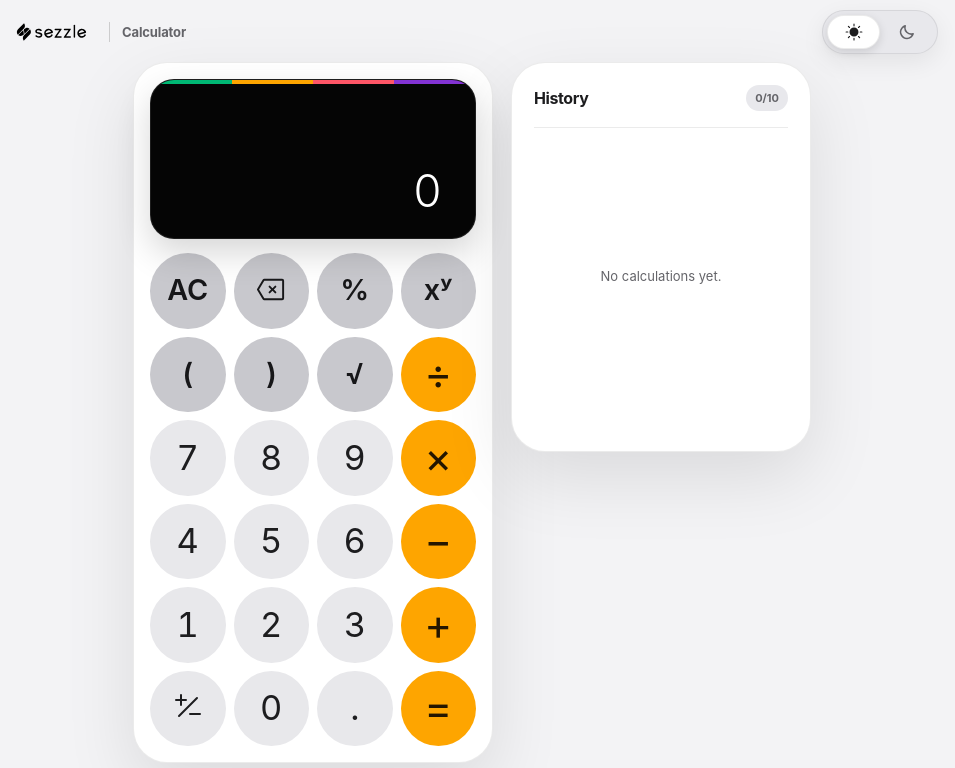
Test: calculator › uses AC only for an empty calculator and C while content is present
Expected: the button with aria-label "clear" reads "AC", x1=150 y1=253 x2=226 y2=328
What coordinates should you click on to do the following:
click the button "7"
I would click on:
 (188, 458)
Its box is x1=150 y1=420 x2=226 y2=496.
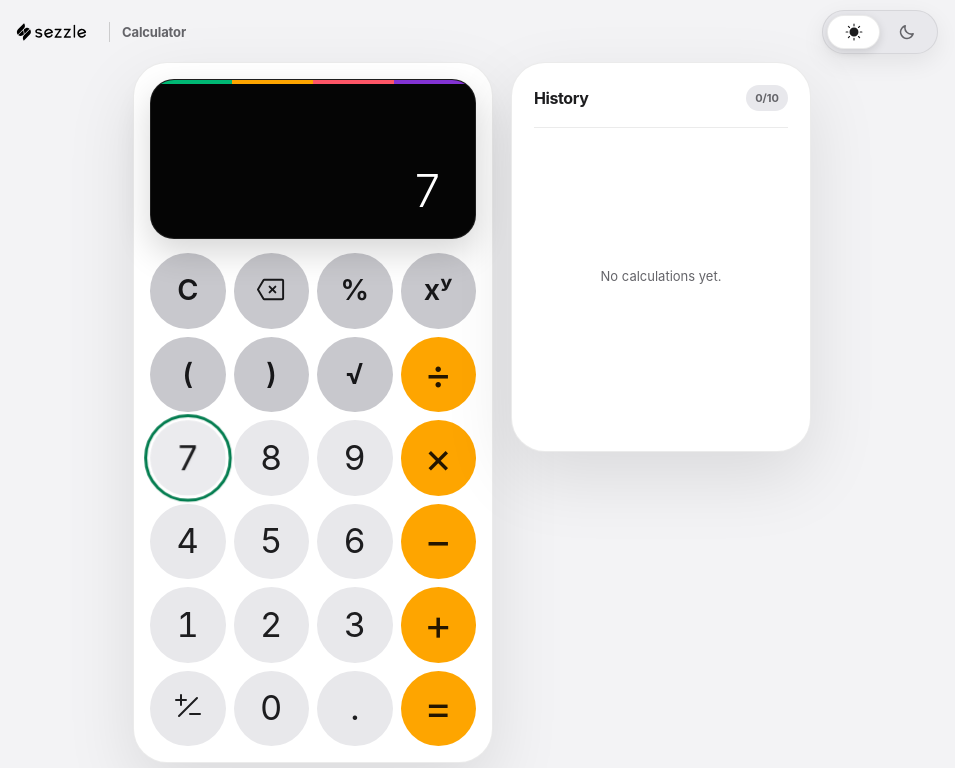
Now the button named "clear" reads "C", box x1=150 y1=253 x2=226 y2=328
What coordinates should you click on to do the following:
click the button named "delete"
I would click on:
 (271, 291)
Its box is x1=234 y1=253 x2=309 y2=328.
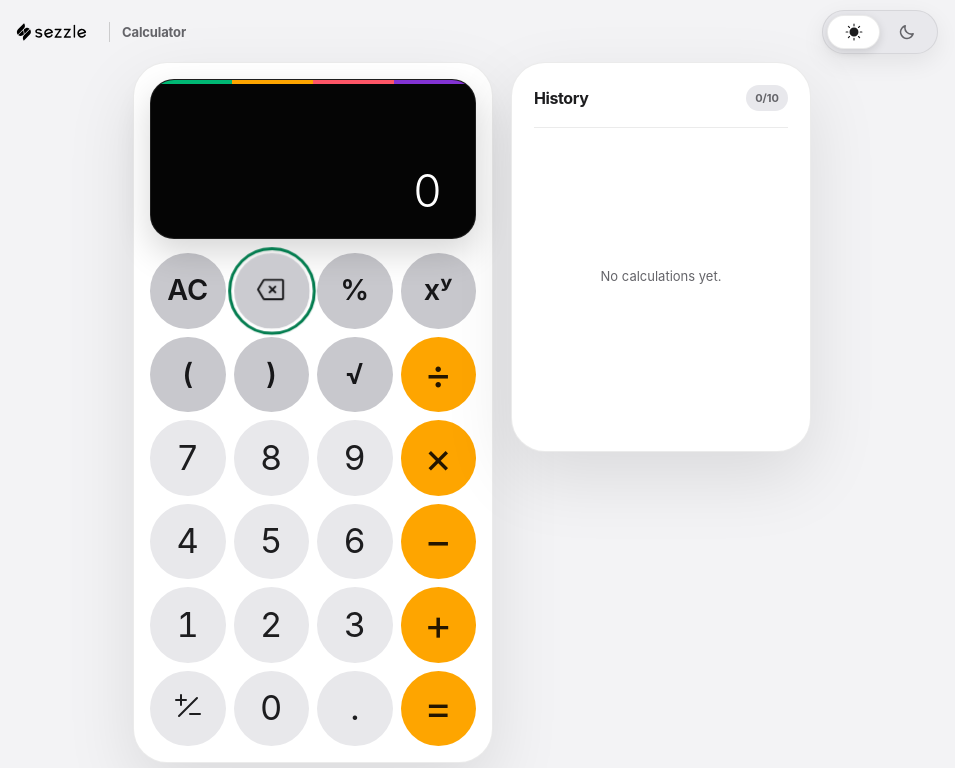
Now the button with aria-label "clear" reads "AC", box x1=150 y1=253 x2=226 y2=328
What coordinates should you click on to do the following:
click the button "8"
I would click on:
 (271, 458)
Its box is x1=234 y1=420 x2=309 y2=496.
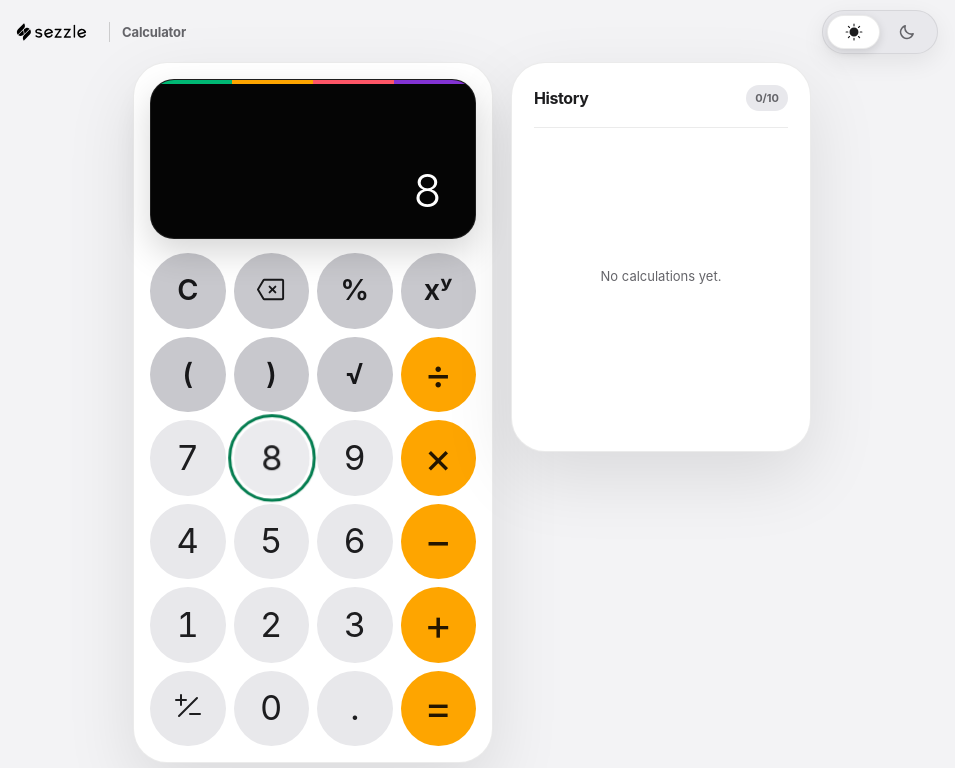
What coordinates should you click on to do the following:
click the button named "plus"
I would click on:
 (438, 625)
Its box is x1=400 y1=587 x2=476 y2=662.
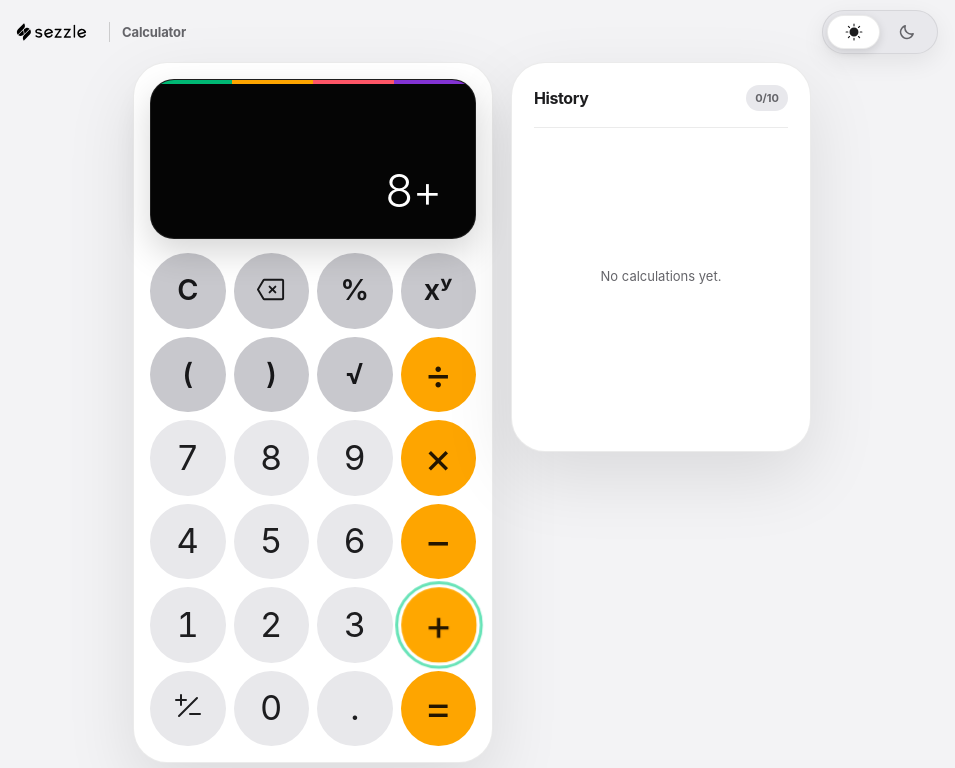
What coordinates should you click on to do the following:
click the button "2"
I would click on:
 (271, 625)
Its box is x1=234 y1=587 x2=309 y2=662.
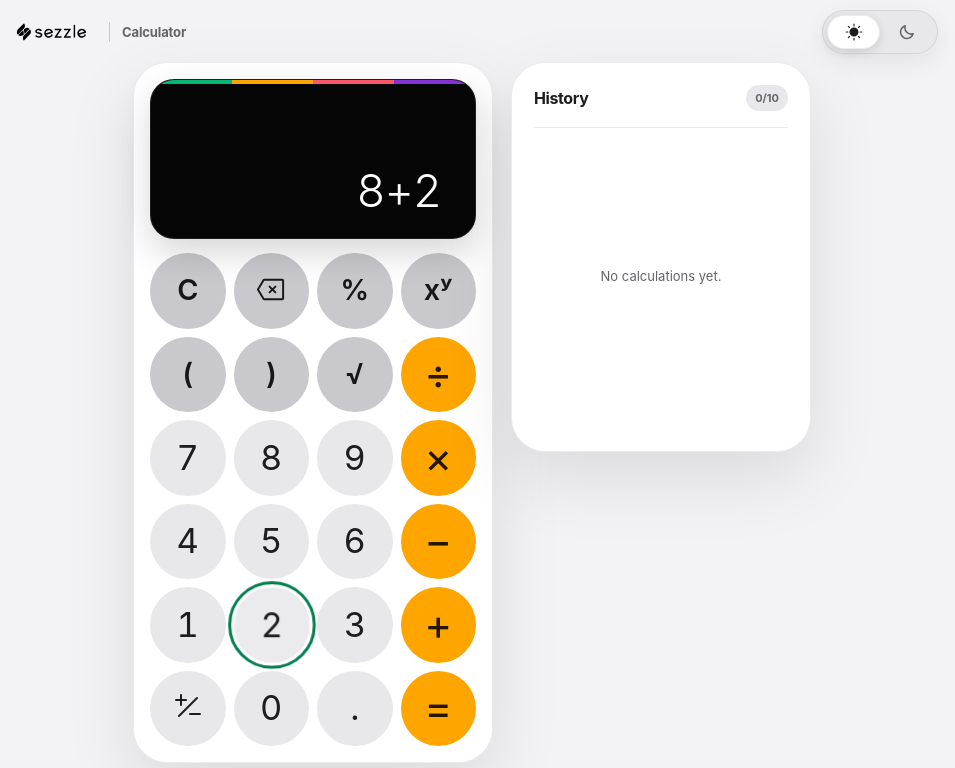
Now the button named "clear" reads "C"
What coordinates should you click on to do the following:
click the button named "clear"
I would click on:
 (188, 291)
Its box is x1=150 y1=253 x2=226 y2=328.
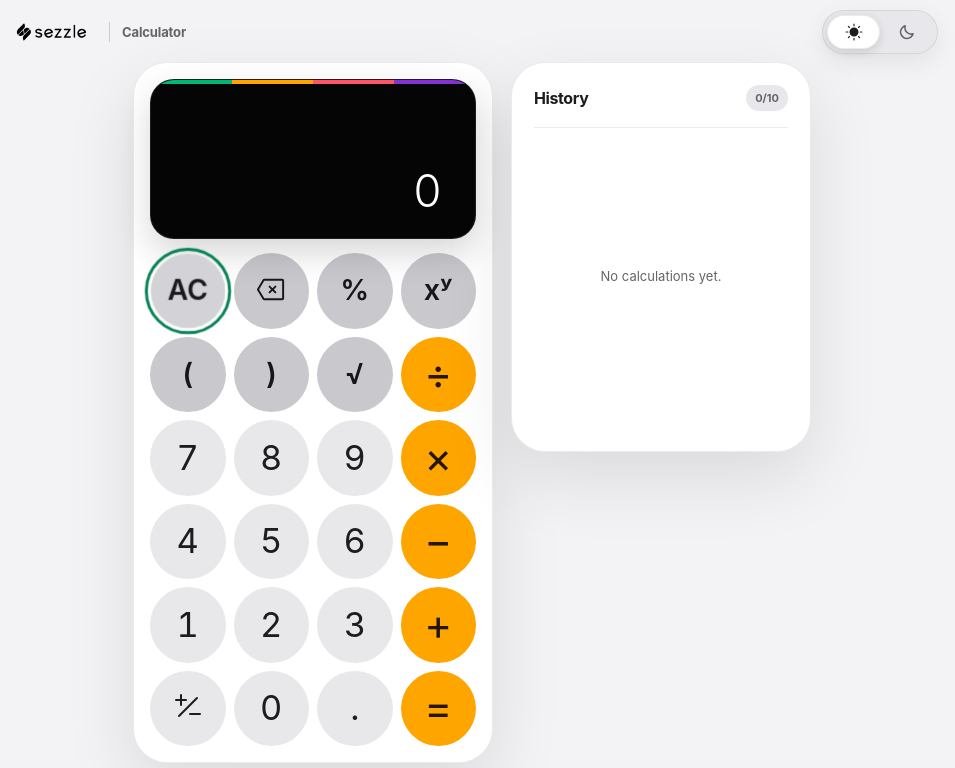
Now the button with aria-label "clear" reads "AC", box x1=151 y1=254 x2=225 y2=328
Now the text named "result" reads "0", box x1=413 y1=163 x2=441 y2=218
